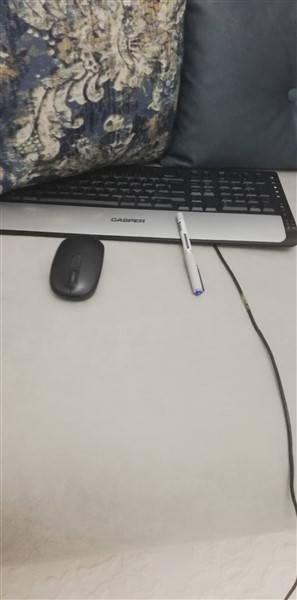klavye: (1, 168, 294, 247)
mouse: (44, 230, 111, 306)
pilot kalem: (174, 210, 207, 303)
